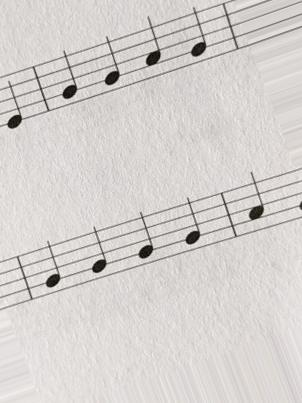note: (135, 13, 168, 83), (94, 30, 128, 94), (128, 208, 162, 271), (236, 169, 269, 232), (33, 237, 68, 294), (177, 193, 209, 254), (81, 224, 114, 282), (54, 45, 84, 104), (184, 2, 211, 65), (1, 78, 31, 129)
